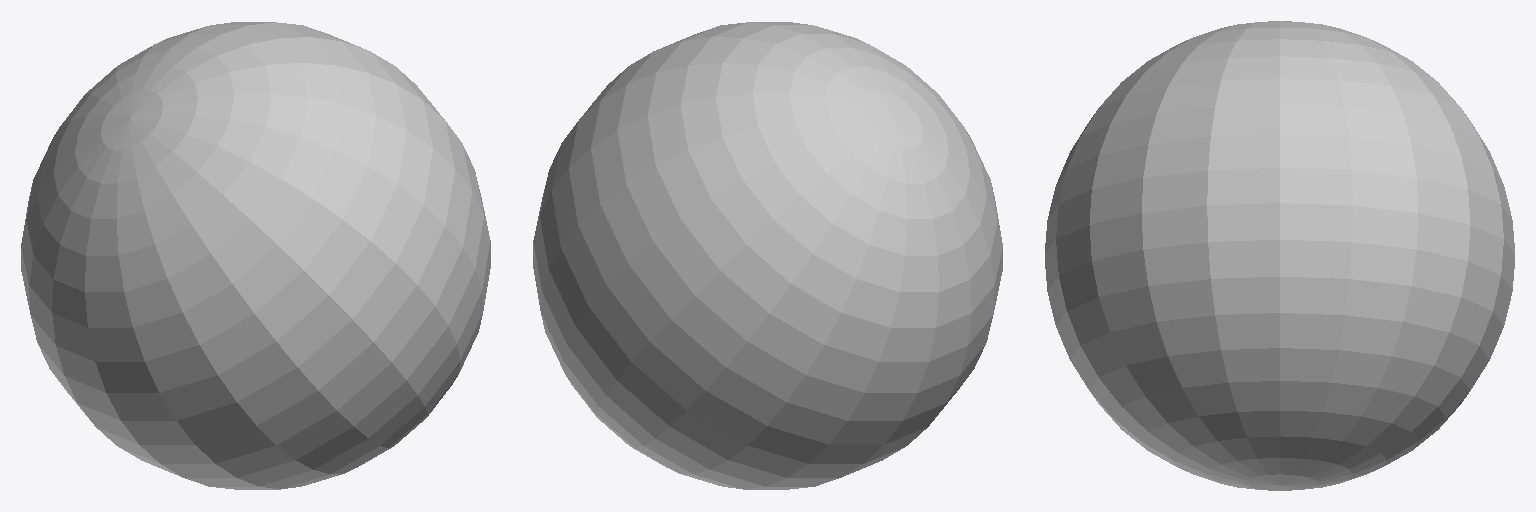
The model's file is player_Larm_elbow.obj.
The picture shows the model from 3 angles: view 1: azimuth 30°, elevation 25°; view 2: azimuth 150°, elevation 25°; view 3: azimuth 270°, elevation 25°; orthographic projection.
Visible parts, largest first — view 1: pSphere1 group3; view 2: pSphere1 group3; view 3: pSphere1 group3.
Part boxes in pixels (x1,y1,x2,y2): pSphere1 group3: (21,22,490,489); pSphere1 group3: (533,22,1002,489); pSphere1 group3: (1045,21,1514,490).
Bounding box in the file's own units: 0.7418 × 0.7418 × 0.7423.